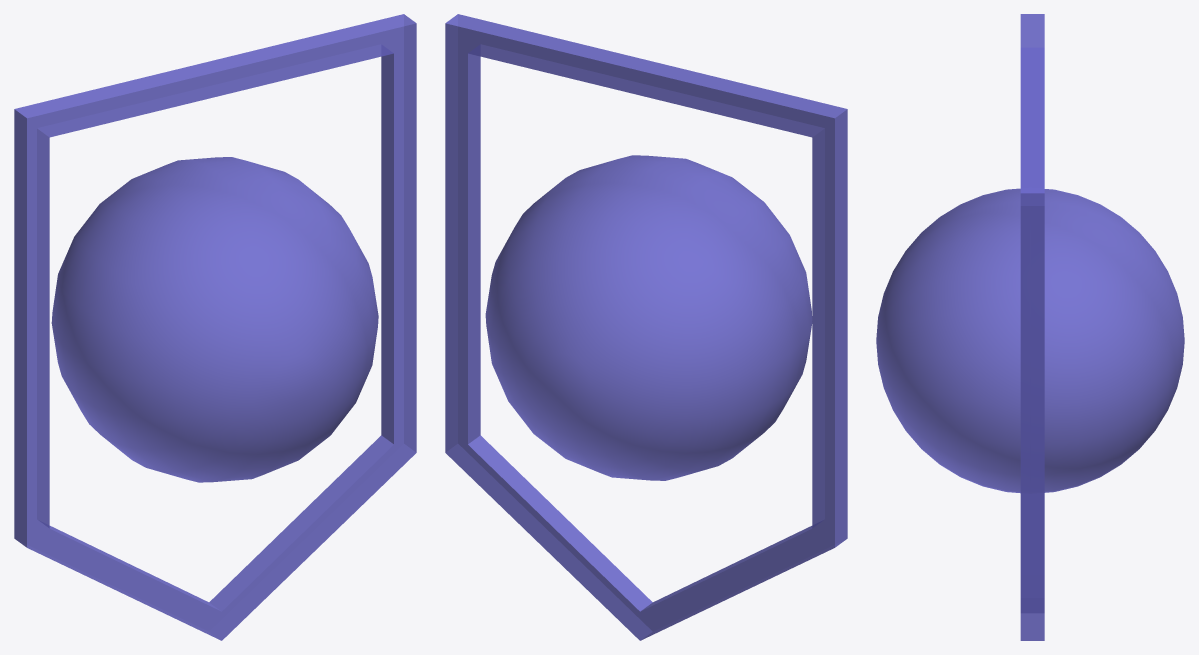
The model's file is powerup_shield.fbx.
3 views of the same model, side by side, from view 1: azimuth 30°, elevation 25°; view 2: azimuth 150°, elevation 25°; view 3: azimuth 270°, elevation 25° (orthographic). The views are drawn at different scales.
Parts seen in each view (by area): view 1: powerup_shield; view 2: powerup_shield; view 3: powerup_shield.
Part boxes in pixels (x1,y1,x2,y2): powerup_shield: [14, 14, 416, 640]; powerup_shield: [445, 14, 847, 640]; powerup_shield: [876, 14, 1184, 640].
Bounding box in the file's own units: 5.24 × 7.33 × 3.81.
